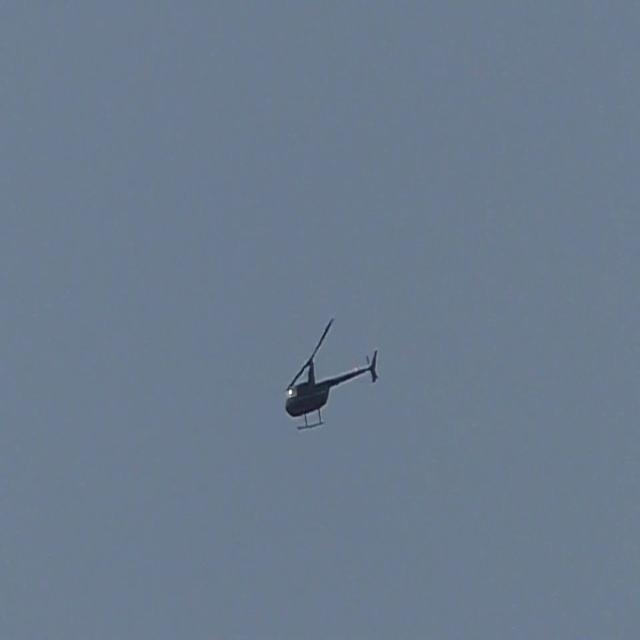CIV_HELO: (284, 348, 379, 431)
